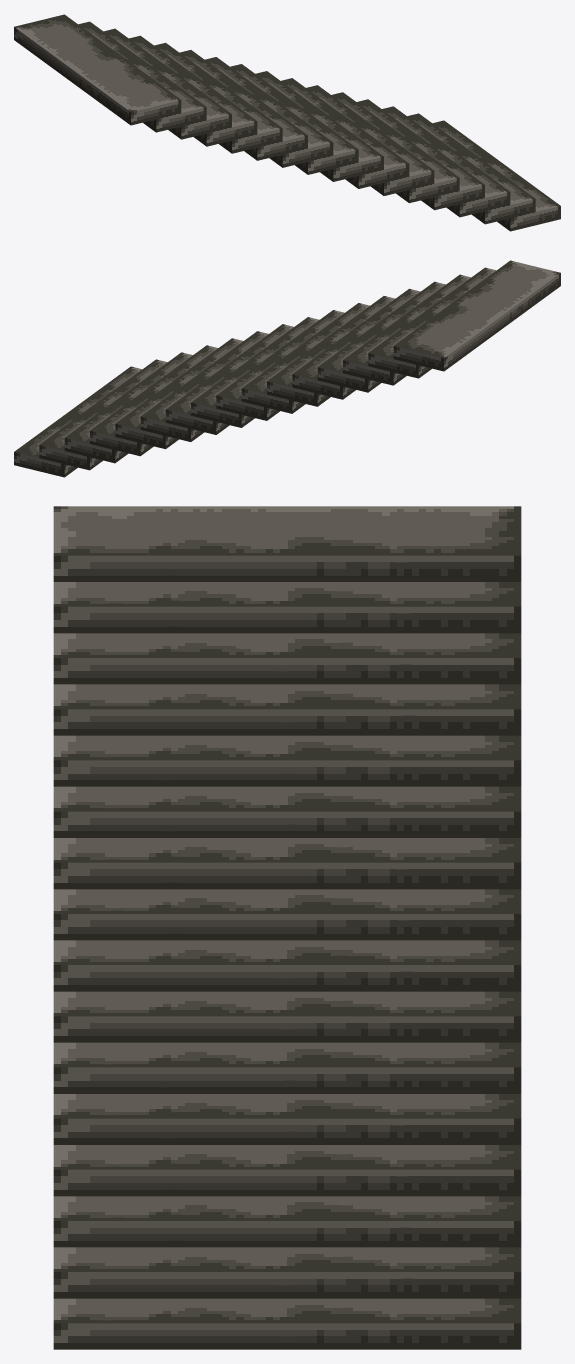
File: Stair_Long_2.fbx
The picture shows the model from 3 angles, top to bottom: view 1: azimuth 30°, elevation 25°; view 2: azimuth 150°, elevation 25°; view 3: azimuth 270°, elevation 25°; orthographic projection. The views are drawn at different scales.
Parts seen in each view (by area): view 1: Stair_Long_2; view 2: Stair_Long_2; view 3: Stair_Long_2.
Part boxes in pixels (x1,y1,x2,y2): Stair_Long_2: [14, 14, 560, 231]; Stair_Long_2: [14, 260, 560, 477]; Stair_Long_2: [53, 506, 521, 1349].
Size of the model in its own units: 850 by 400 by 400.
Materials: 1 (1 with a texture image).
